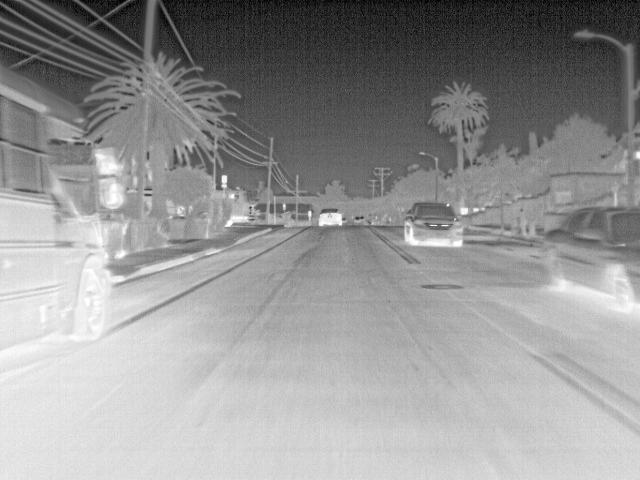car: (544, 206, 640, 307), (406, 202, 462, 246), (320, 208, 343, 226)
person: (171, 206, 186, 222)
